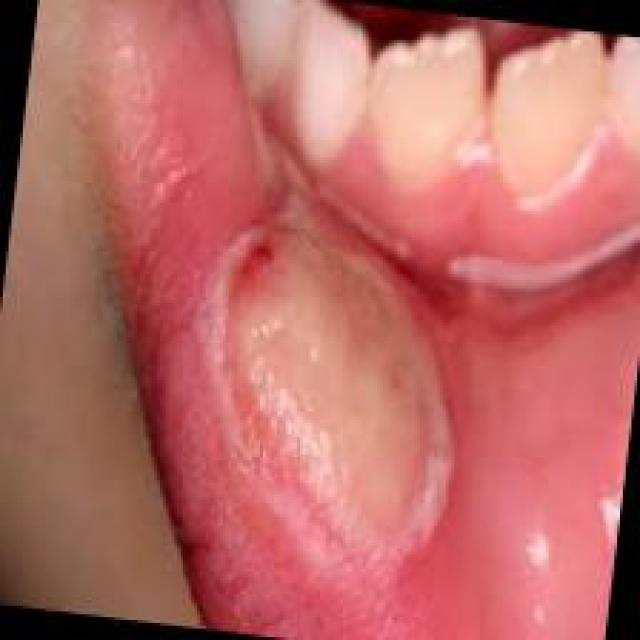processing_area: (90, 0, 637, 637)
ulcer-detection: (192, 178, 474, 601)
